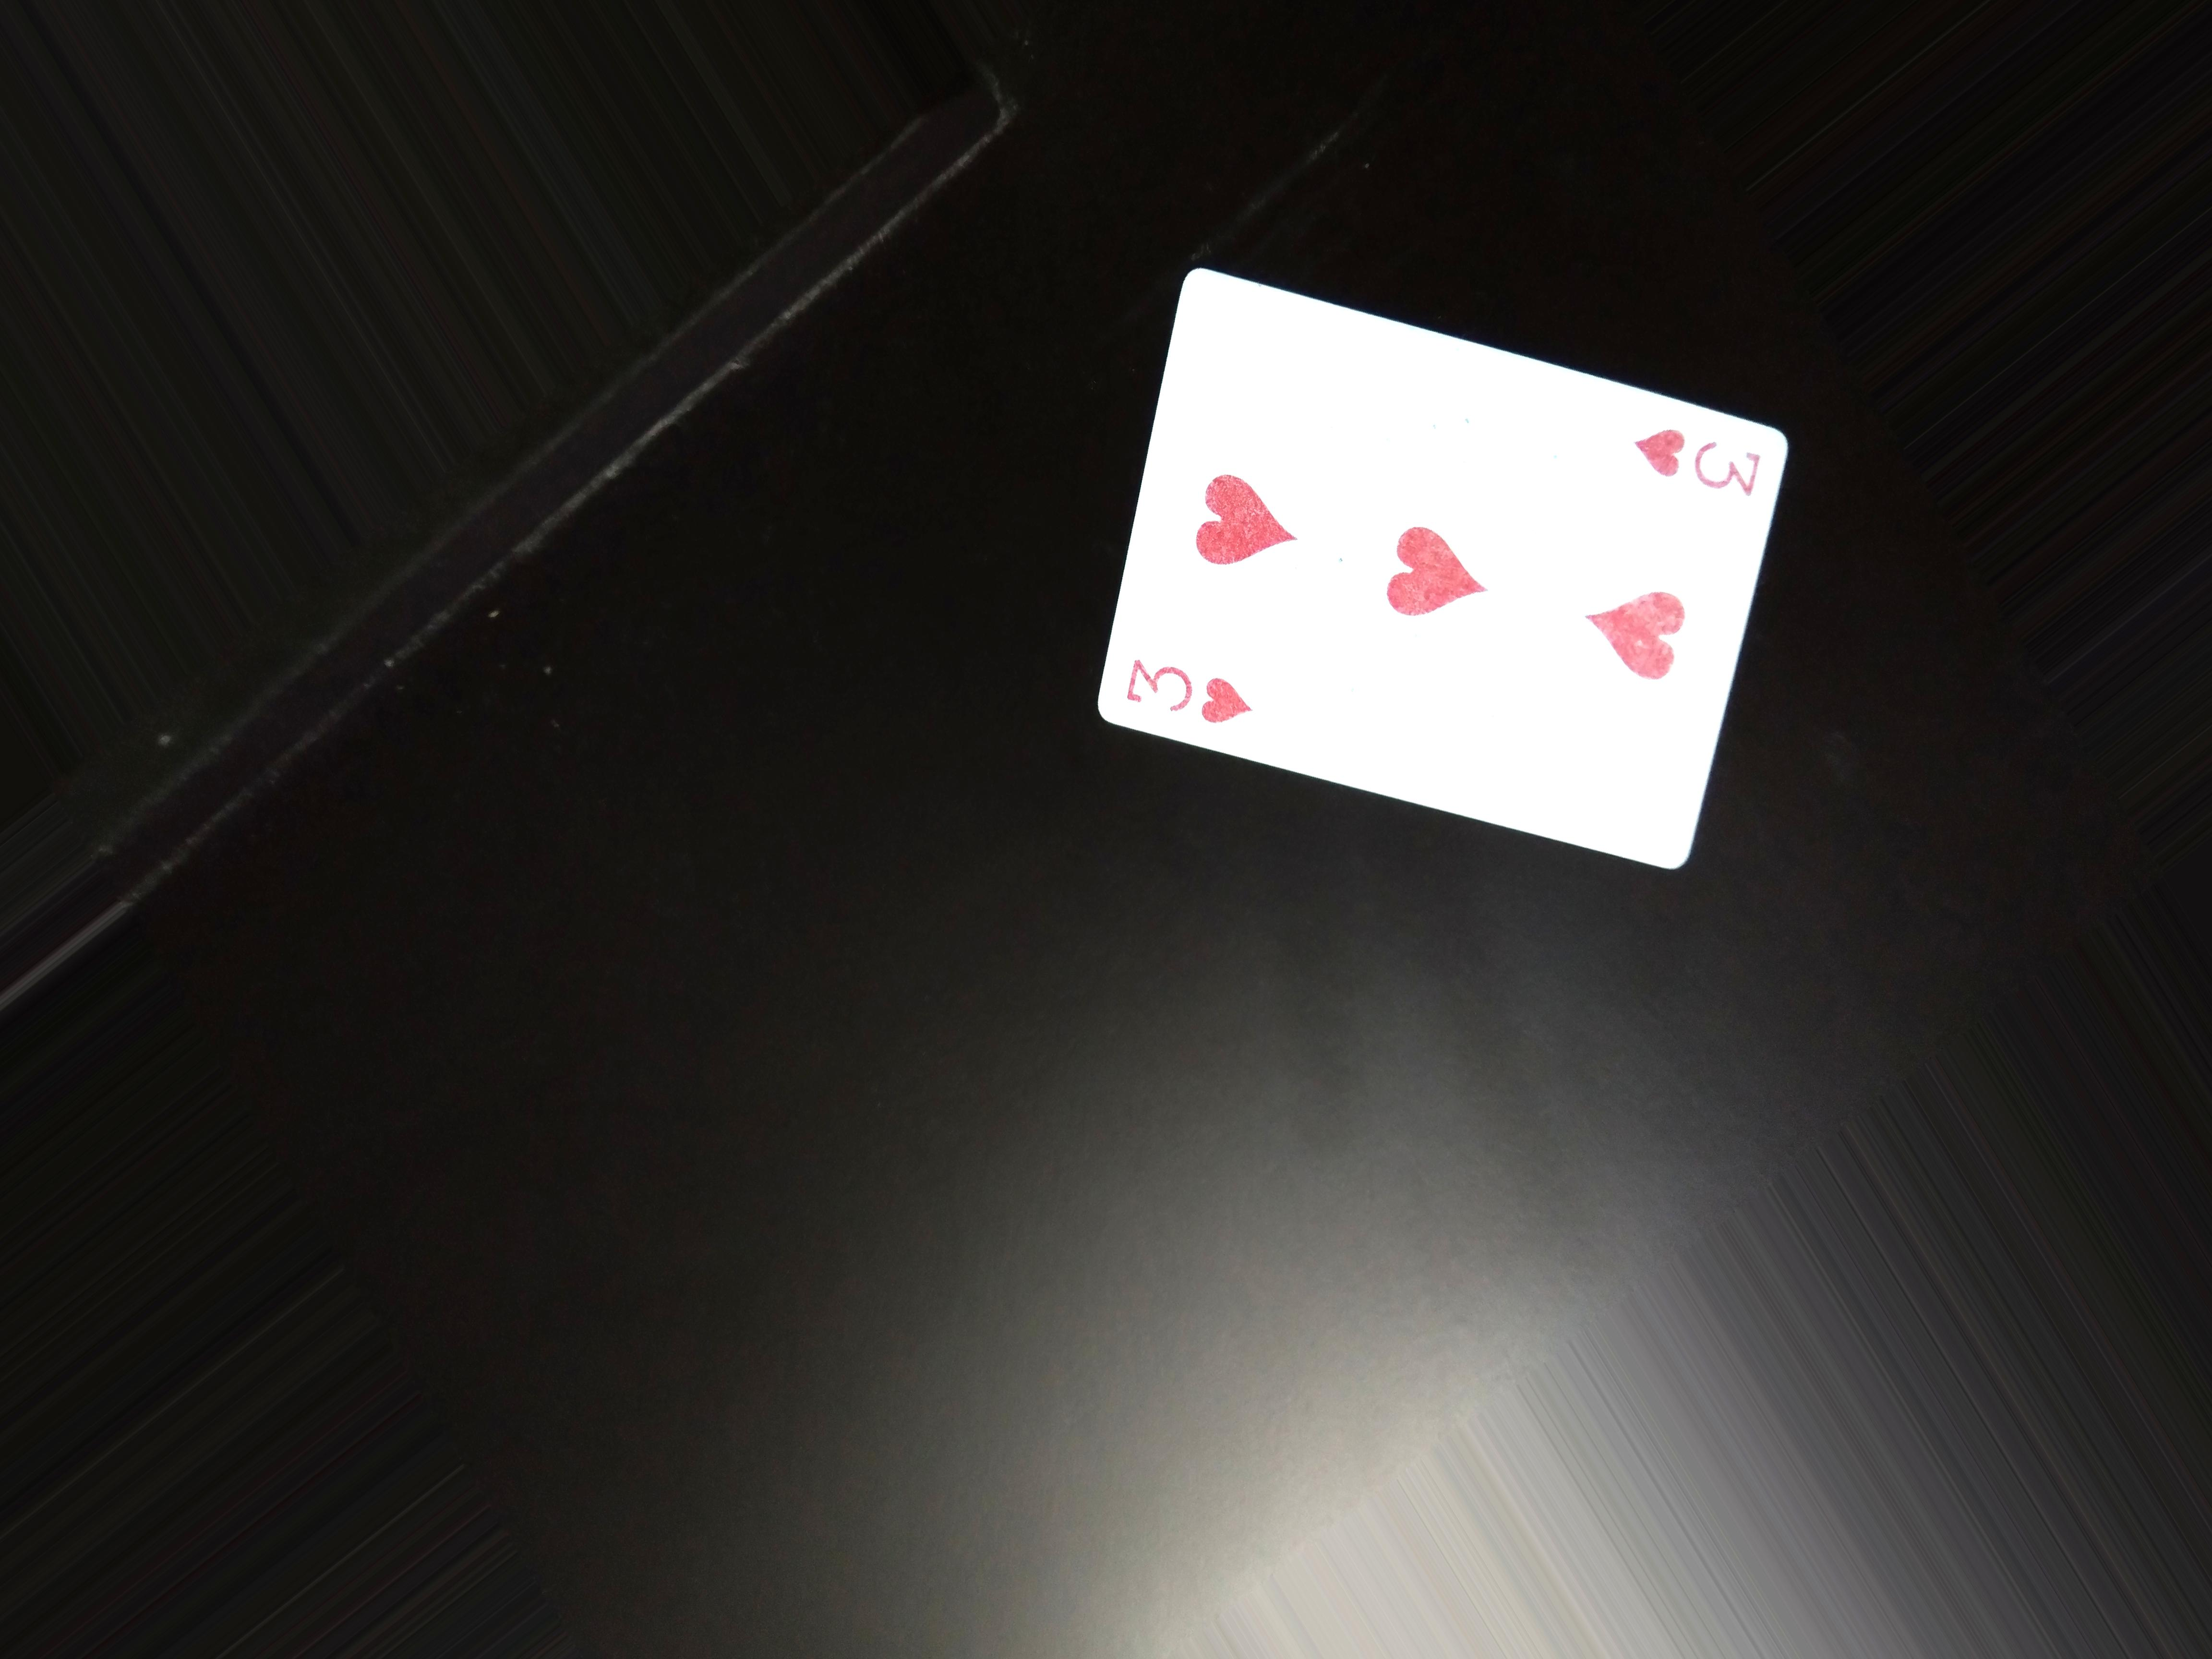3H: (1625, 408, 1777, 500)
